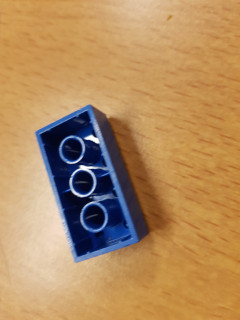2x4 blue: (31, 102, 151, 265)
